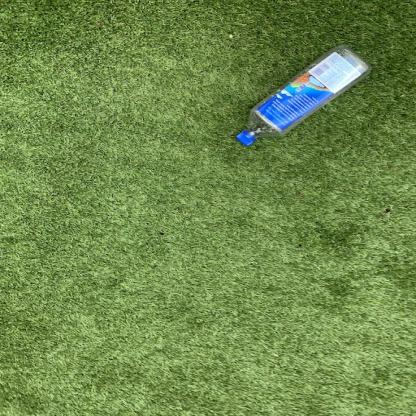trash: (232, 46, 368, 150)
